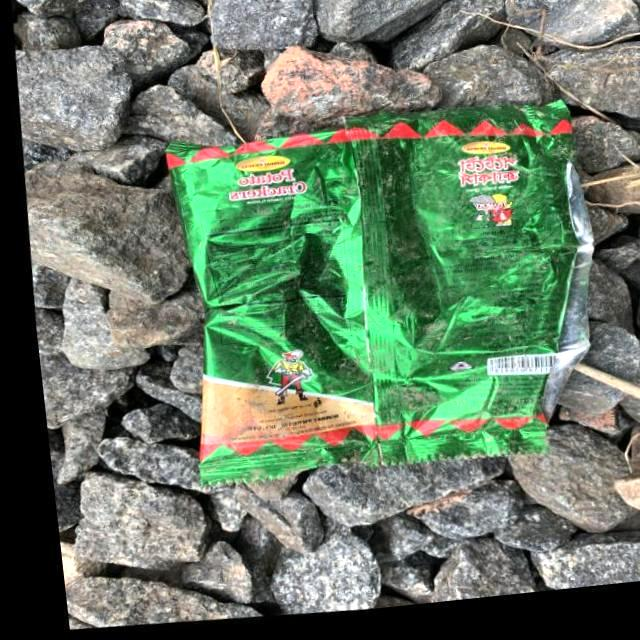packet: (157, 92, 603, 505)
